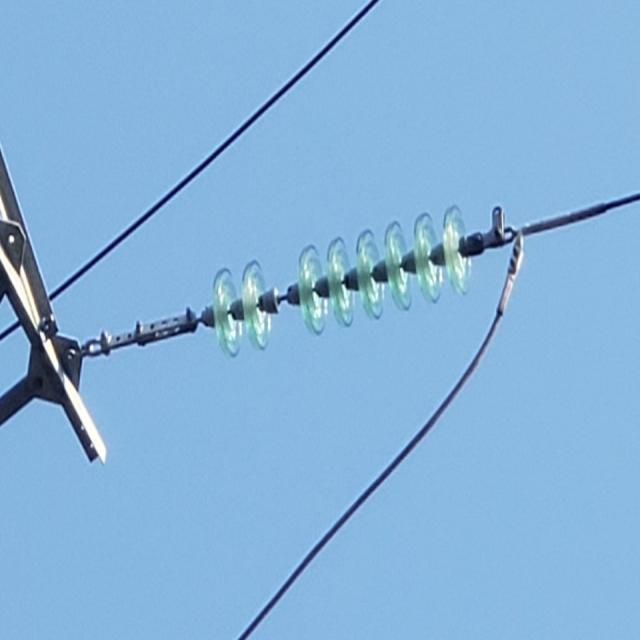正常绝缘子: (202, 200, 480, 357)
绝缘子破损: (268, 278, 293, 318)
